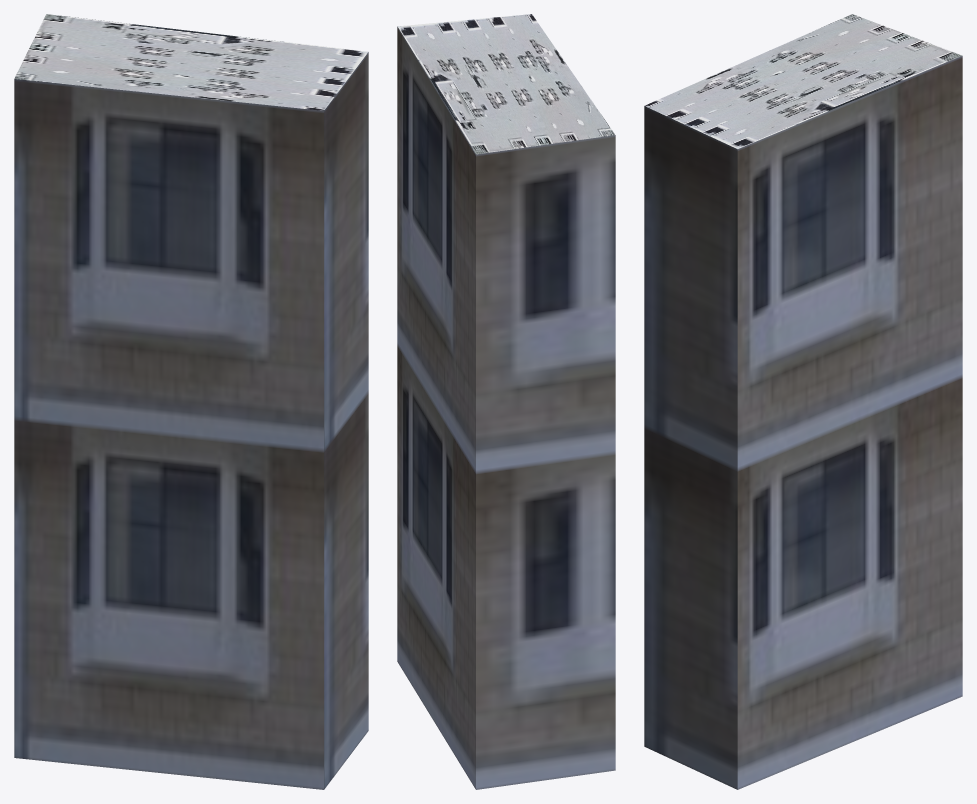
Rendered from ResTex__4168.fbx.
3 renders of one model, left to right at view 1: azimuth 30°, elevation 25°; view 2: azimuth 150°, elevation 25°; view 3: azimuth 270°, elevation 25°, orthographic. The views are drawn at different scales.
Visible parts, largest first — view 1: CityEngineMaterial_3_m, CityEngineMaterial_4_m; view 2: CityEngineMaterial_3_m, CityEngineMaterial_4_m; view 3: CityEngineMaterial_3_m, CityEngineMaterial_4_m.
Boxes of the visible parts, x1,y1,x2,y2 form: CityEngineMaterial_3_m: (14,52,368,789); CityEngineMaterial_4_m: (14,14,368,110); CityEngineMaterial_3_m: (397,26,615,789); CityEngineMaterial_4_m: (397,14,614,154); CityEngineMaterial_3_m: (644,56,962,789); CityEngineMaterial_4_m: (644,14,962,149).
Bounding box in the file's own units: 2.72 × 6 × 2.7.
2 materials, 2 textured.
